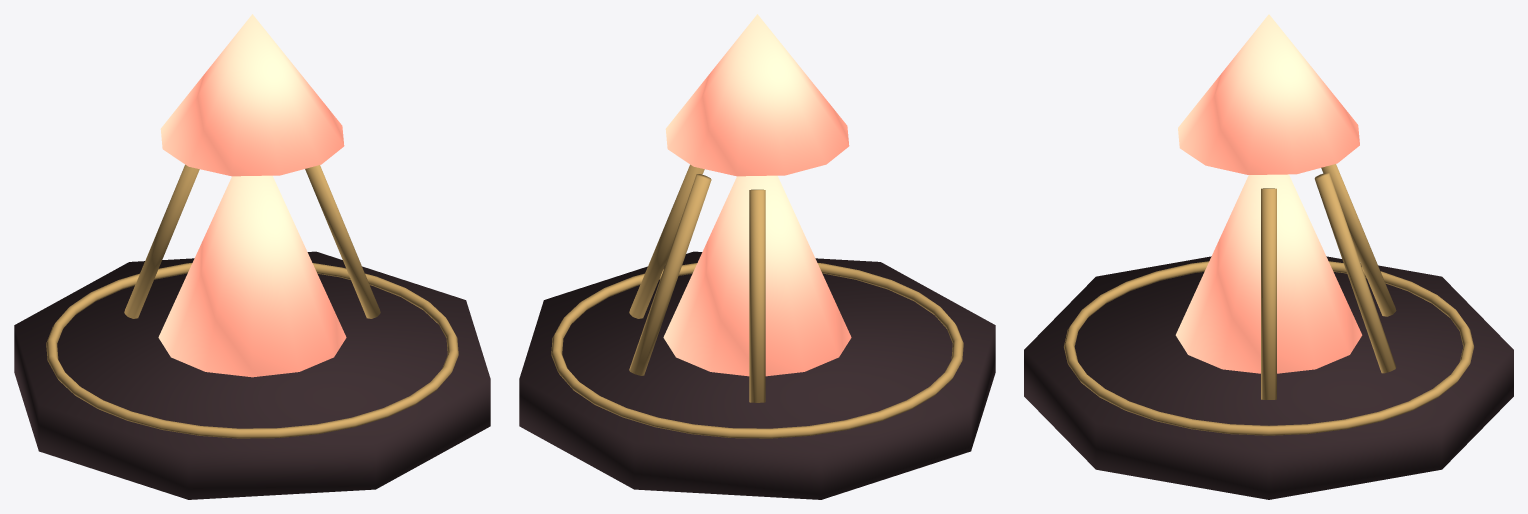
3 views of the same model, side by side, from view 1: azimuth 30°, elevation 25°; view 2: azimuth 150°, elevation 25°; view 3: azimuth 270°, elevation 25° (orthographic).
Visible parts, largest first — view 1: Hexagonal plinth, Lower crystal, Upper crystal, Inlaid rim, Brass setting, Brass setting.002; view 2: Hexagonal plinth, Lower crystal, Upper crystal, Inlaid rim, Brass setting.002, Brass setting.001, Brass setting; view 3: Hexagonal plinth, Lower crystal, Upper crystal, Inlaid rim, Brass setting.001, Brass setting, Brass setting.002.
Part boxes in pixels (x1,y1,x2,y2): Hexagonal plinth: [14, 251, 490, 499]; Lower crystal: [158, 175, 346, 377]; Upper crystal: [160, 14, 344, 176]; Inlaid rim: [46, 263, 458, 438]; Brass setting: [305, 165, 380, 318]; Brass setting.002: [124, 164, 199, 318]; Hexagonal plinth: [519, 251, 995, 499]; Lower crystal: [663, 175, 851, 376]; Upper crystal: [665, 14, 849, 176]; Inlaid rim: [551, 263, 963, 438]; Brass setting.002: [749, 189, 765, 402]; Brass setting.001: [629, 174, 711, 375]; Brass setting: [629, 164, 704, 318]; Hexagonal plinth: [1024, 256, 1513, 499]; Lower crystal: [1175, 174, 1362, 373]; Upper crystal: [1178, 14, 1359, 174]; Inlaid rim: [1064, 261, 1473, 435]; Brass setting.001: [1314, 173, 1396, 373]; Brass setting: [1261, 188, 1276, 399]; Brass setting.002: [1321, 164, 1396, 316].
Bounding box in the file's own units: 1.52 × 1.31 × 1.52.
